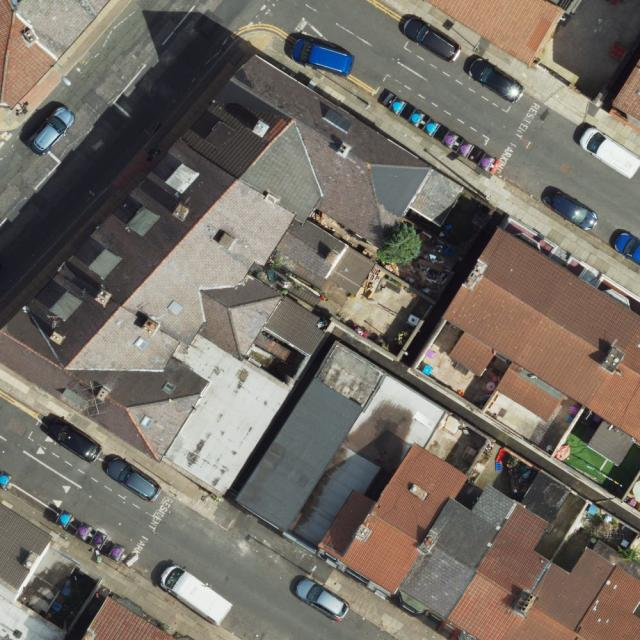roof: (0, 56, 463, 496), (237, 342, 640, 640), (443, 226, 640, 441), (0, 1, 111, 108), (422, 0, 564, 66), (0, 500, 52, 589), (83, 594, 180, 640), (613, 55, 640, 123)
skylight: (161, 379, 177, 396), (168, 301, 185, 316), (134, 336, 148, 352), (139, 415, 153, 430)
